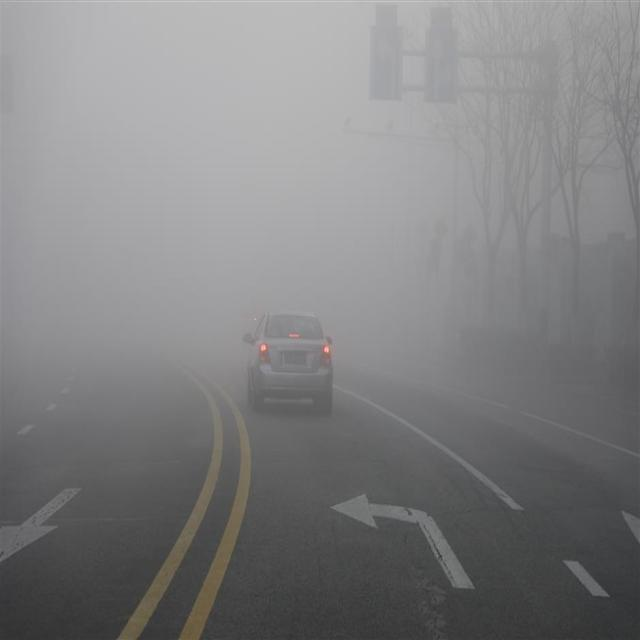car: (242, 310, 332, 414)
